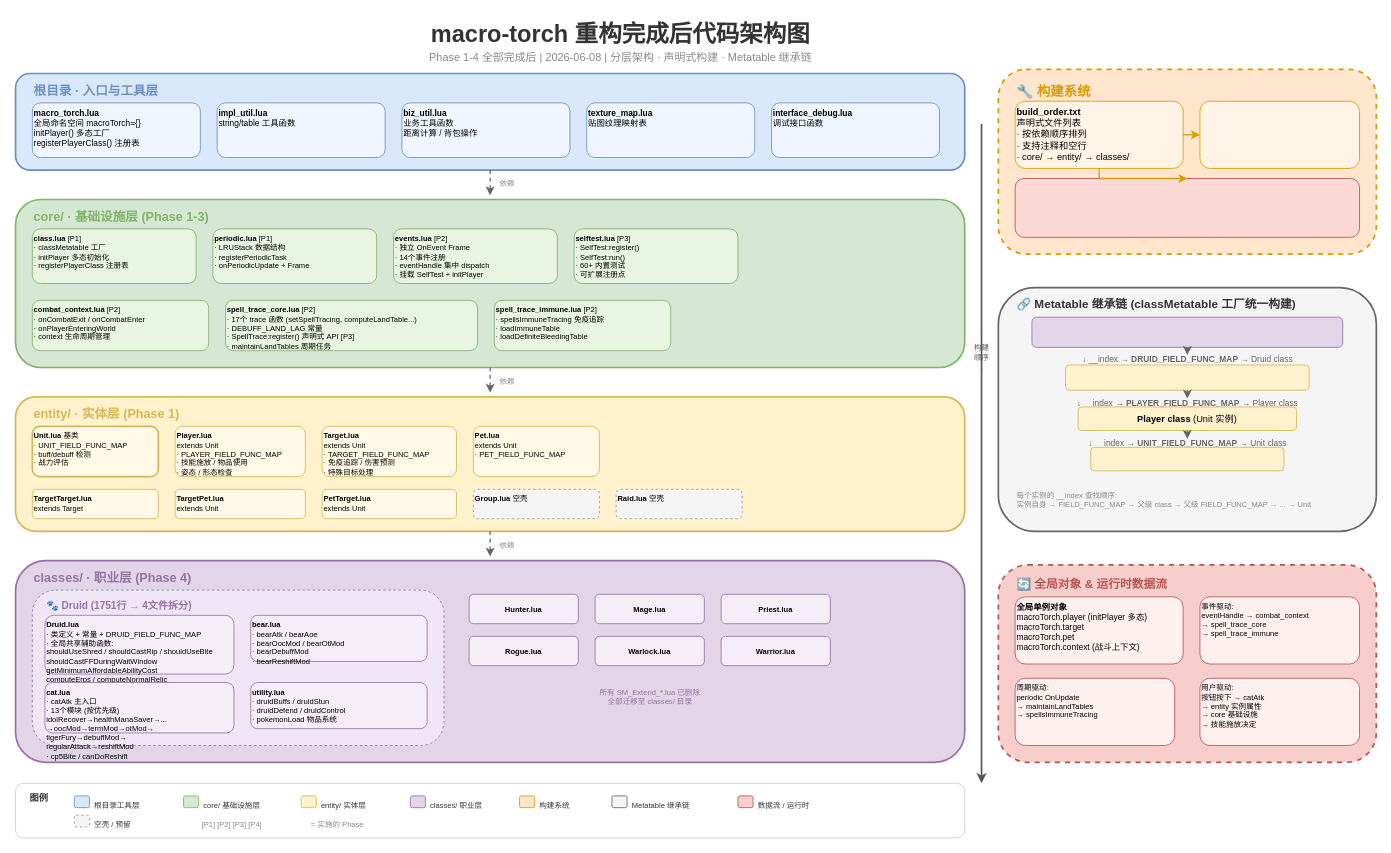
This 1391x853 diagram has some shape labels left out. Each missing label, with the box of its shape:
build.sh 严格模式拼接器 · 读取 build_order.txt · 文件缺失报错退出 · 输出到 SuperMacro 目录: (1199, 100, 1360, 168)
Druid class (Player 实例): (1065, 364, 1309, 390)
Druid 实例 macroTorch.player (Druid 时): (1031, 316, 1343, 347)
SM_Extend.lua 单文件构建产物 ≈ 3000+ 行 Lua SuperMacro 可直接加载: (1014, 178, 1360, 237)
Unit class (基类): (1090, 446, 1284, 471)
